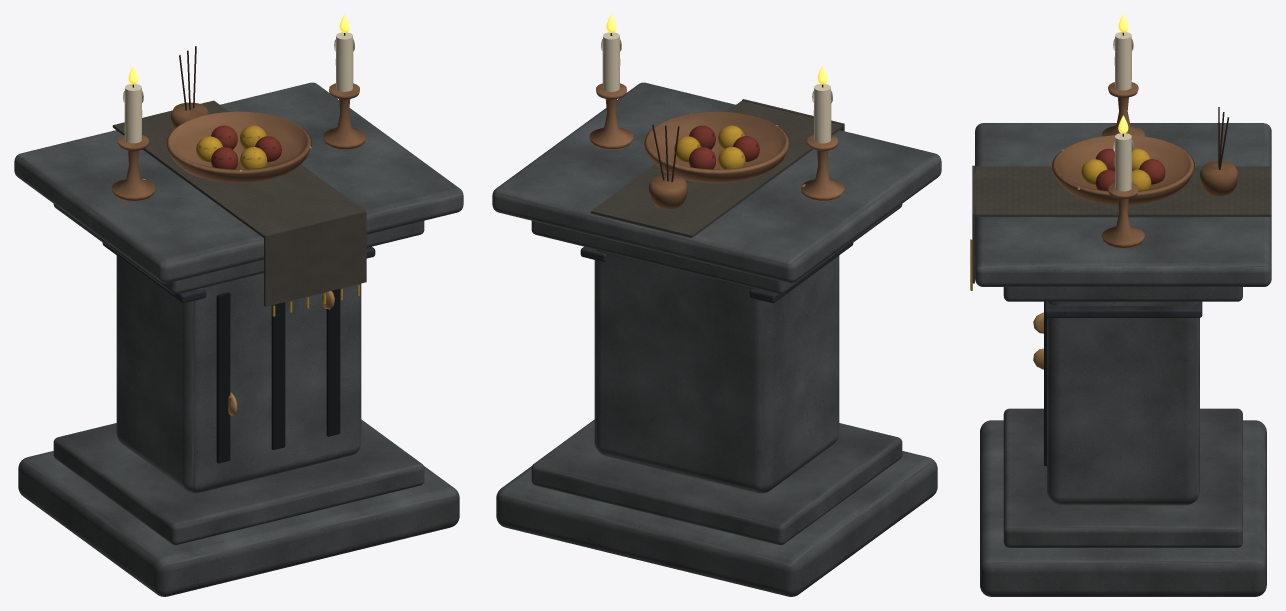
3 renders of one model, left to right at view 1: azimuth 30°, elevation 25°; view 2: azimuth 150°, elevation 25°; view 3: azimuth 270°, elevation 25°, orthographic.
Parts seen in each view (by area): view 1: dressed stone, tooled stone trim, dyed linen cloth, aged brass fittings, recesses, tallow wax, ochre enamel, faded red enamel, blackened strap iron, cast bell bronze; view 2: dressed stone, tooled stone trim, aged brass fittings, dyed linen cloth, tallow wax, faded red enamel, ochre enamel, cast bell bronze, blackened strap iron; view 3: dressed stone, tooled stone trim, dyed linen cloth, aged brass fittings, tallow wax, blackened strap iron, ochre enamel, cast bell bronze, faded red enamel, recesses.
Boxes of the visible parts, x1,y1,x2,y2 form: dressed stone: [14, 82, 463, 596]; tooled stone trim: [53, 204, 424, 545]; dyed linen cloth: [112, 100, 366, 306]; aged brass fittings: [111, 83, 366, 201]; recesses: [132, 33, 345, 463]; tallow wax: [123, 32, 354, 143]; ochre enamel: [196, 125, 359, 316]; faded red enamel: [211, 125, 281, 169]; blackened strap iron: [102, 243, 375, 303]; cast bell bronze: [170, 102, 209, 128]; dressed stone: [492, 82, 941, 596]; tooled stone trim: [531, 204, 902, 545]; aged brass fittings: [589, 83, 844, 201]; dyed linen cloth: [590, 99, 844, 237]; tallow wax: [601, 32, 832, 143]; faded red enamel: [689, 125, 759, 169]; ochre enamel: [674, 125, 745, 169]; cast bell bronze: [648, 174, 687, 209]; blackened strap iron: [580, 243, 853, 303]; dressed stone: [975, 123, 1271, 596]; tooled stone trim: [1003, 287, 1242, 547]; dyed linen cloth: [972, 165, 1271, 283]; aged brass fittings: [1051, 82, 1194, 248]; tallow wax: [1113, 32, 1133, 191]; blackened strap iron: [1044, 301, 1202, 317]; ochre enamel: [970, 148, 1151, 290]; cast bell bronze: [1200, 161, 1238, 195]; faded red enamel: [1095, 148, 1165, 190]; recesses: [1044, 32, 1123, 465].
Size of the model in its own units: 0.72 by 1.07 by 0.63.
14 materials, 10 textured.
